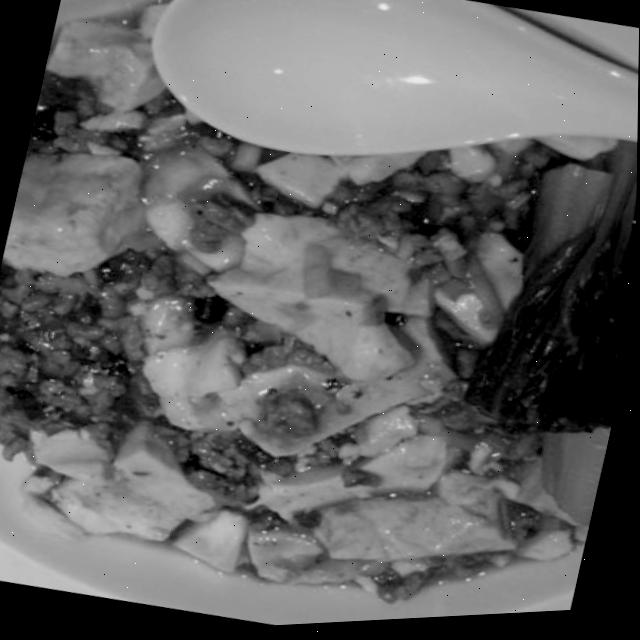豆腐料理: (0, 89, 639, 640)
